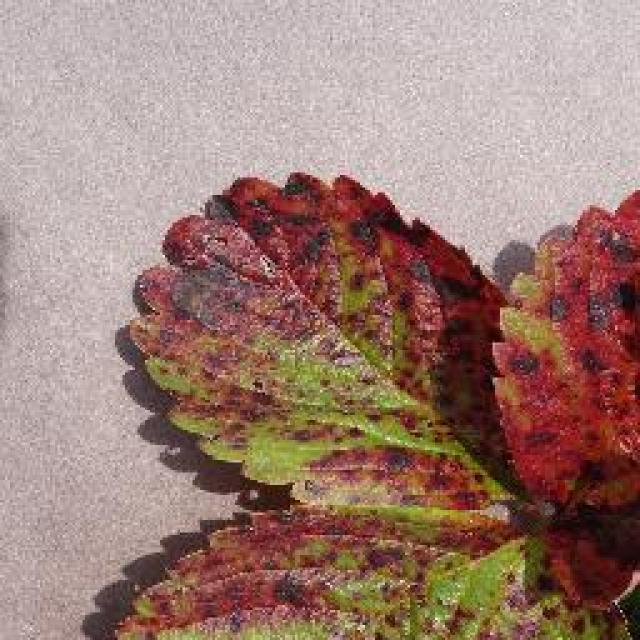Strawberry leaf scorch: (127, 190, 640, 637)
